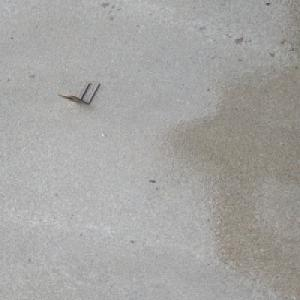MetalPart: (56, 80, 101, 105)
